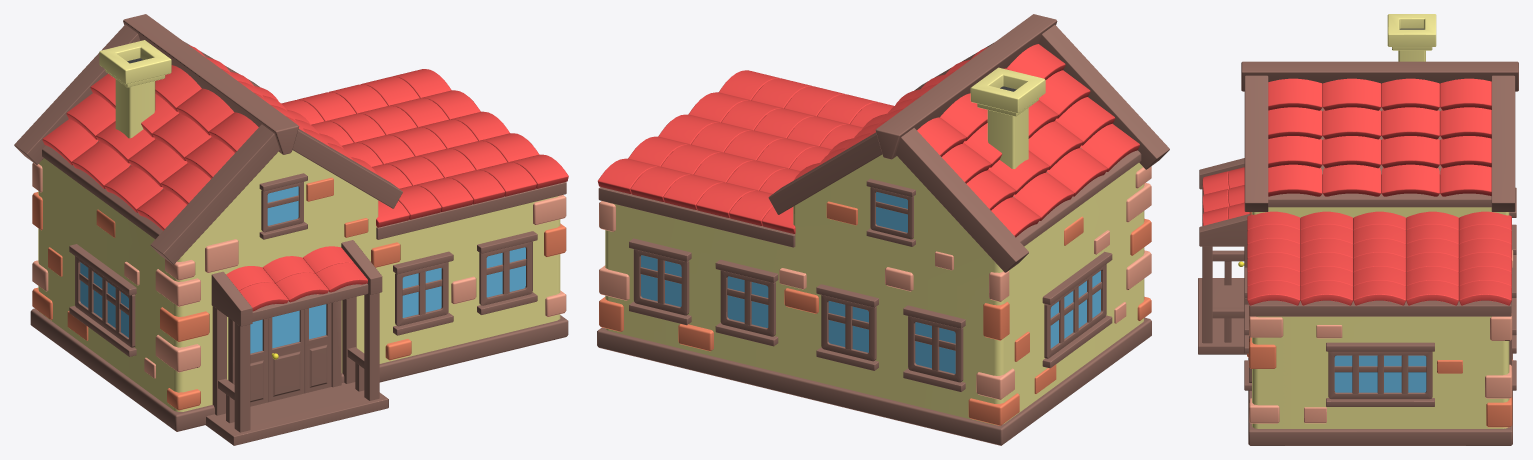
File: Town_13_House_1.glb
3 renders of one model, left to right at view 1: azimuth 30°, elevation 25°; view 2: azimuth 150°, elevation 25°; view 3: azimuth 270°, elevation 25°, orthographic. The views are drawn at different scales.
Parts seen in each view (by area): view 1: Town_13_House_1; view 2: Town_13_House_1; view 3: Town_13_House_1.
Boxes of the visible parts, x1,y1,x2,y2 form: Town_13_House_1: (14, 14, 568, 445); Town_13_House_1: (597, 14, 1169, 445); Town_13_House_1: (1198, 14, 1518, 445).
Bounding box in the file's own units: 10.21 × 7.11 × 7.62.
1 material, 1 textured.
